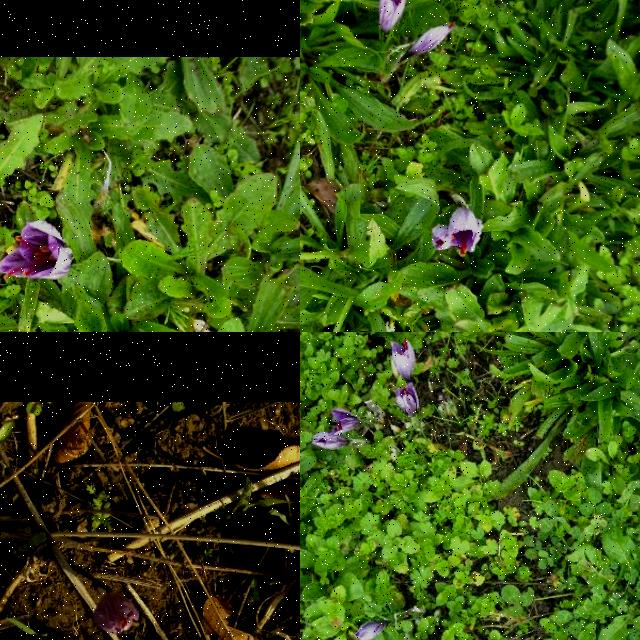flower: (0, 220, 74, 280), (92, 590, 138, 632), (410, 22, 456, 56), (391, 338, 415, 382), (378, 0, 408, 33), (332, 408, 360, 437), (396, 386, 419, 418), (310, 432, 350, 450), (354, 619, 388, 640)
overlap: (432, 208, 484, 258)
